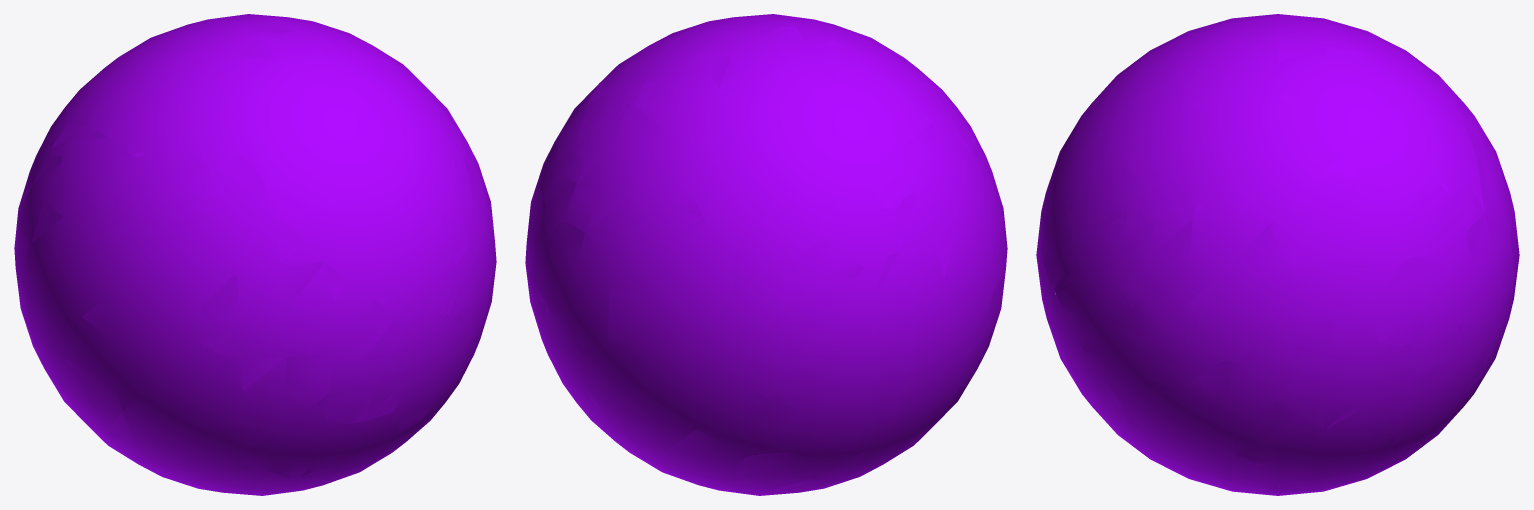
3 views of the same model, side by side, from view 1: azimuth 30°, elevation 25°; view 2: azimuth 150°, elevation 25°; view 3: azimuth 270°, elevation 25° (orthographic).
Parts seen in each view (by area): view 1: Sphere, Sphere_cell.082, Sphere_cell.014, Sphere_cell.023, Sphere_cell.010, Sphere_cell.033, Sphere_cell.052, Sphere_cell.037, Sphere_cell.020, Sphere_cell.047, Sphere_cell.077, Sphere_cell.045 (+13 smaller); view 2: Sphere, Sphere_cell.063, Sphere_cell.039, Sphere_cell.022, Sphere_cell.006, Sphere_cell.009, Sphere_cell.074, Sphere_cell.020, Sphere_cell.092, Sphere_cell.003, Sphere_cell.019, Sphere_cell.071 (+18 smaller); view 3: Sphere, Sphere_cell.095, Sphere_cell.008, Sphere_cell.070, Sphere_cell.087, Sphere_cell.059, Sphere_cell.076, Sphere_cell.086, Sphere_cell.021, Sphere_cell.030, Sphere_cell.064, Sphere_cell.001 (+22 smaller).
Boxes of the visible parts, box(x1,y1,x2,y2) form: Sphere: box(14, 14, 496, 495); Sphere_cell.082: box(247, 300, 394, 411); Sphere_cell.014: box(214, 252, 347, 393); Sphere_cell.023: box(113, 331, 247, 429); Sphere_cell.010: box(135, 250, 242, 350); Sphere_cell.033: box(64, 294, 162, 386); Sphere_cell.052: box(132, 124, 216, 237); Sphere_cell.037: box(205, 154, 272, 219); Sphere_cell.020: box(166, 26, 274, 76); Sphere_cell.047: box(317, 366, 419, 423); Sphere_cell.077: box(260, 150, 327, 236); Sphere_cell.045: box(272, 50, 388, 97); Sphere: box(525, 15, 1007, 495); Sphere_cell.063: box(729, 217, 870, 309); Sphere_cell.039: box(686, 119, 823, 236); Sphere_cell.022: box(702, 283, 806, 404); Sphere_cell.006: box(607, 252, 696, 366); Sphere_cell.009: box(588, 180, 704, 251); Sphere_cell.074: box(598, 104, 688, 183); Sphere_cell.020: box(735, 26, 839, 101); Sphere_cell.092: box(895, 192, 962, 277); Sphere_cell.003: box(732, 447, 850, 480); Sphere_cell.019: box(568, 172, 655, 231); Sphere_cell.071: box(687, 366, 808, 442); Sphere: box(1036, 14, 1518, 495); Sphere_cell.095: box(1189, 199, 1311, 360); Sphere_cell.008: box(1054, 264, 1200, 366); Sphere_cell.070: box(1326, 256, 1463, 355); Sphere_cell.087: box(1104, 208, 1193, 346); Sphere_cell.059: box(1269, 175, 1360, 284); Sphere_cell.076: box(1197, 361, 1320, 466); Sphere_cell.086: box(1236, 314, 1347, 428); Sphere_cell.021: box(1215, 153, 1305, 223); Sphere_cell.030: box(1123, 161, 1195, 228); Sphere_cell.064: box(1359, 164, 1415, 267); Sphere_cell.001: box(1410, 189, 1466, 265).
Size of the model in its own units: 100 by 100 by 100.
